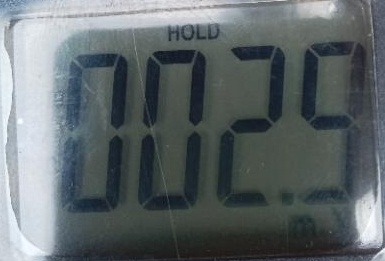ClampMeter_Display: (0, 0, 385, 261)
